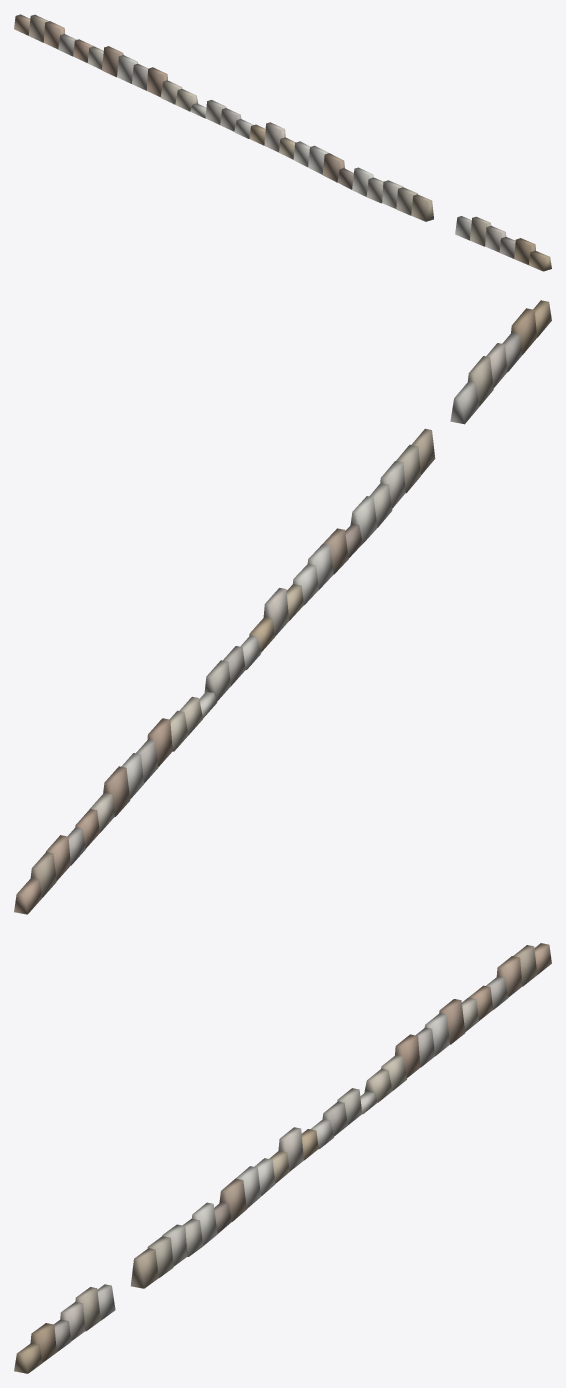
File: farm_0_-4_collision.glb
3 views of the same model, one above another, from view 1: azimuth 30°, elevation 25°; view 2: azimuth 150°, elevation 25°; view 3: azimuth 330°, elevation 25° (orthographic). The views are drawn at different scales.
Visible parts, largest first — view 1: geometry_0; view 2: geometry_0; view 3: geometry_0.
Part boxes in pixels (box(x1,y1,x2,y2)): geometry_0: box(14, 14, 551, 271); geometry_0: box(14, 300, 551, 914); geometry_0: box(14, 943, 551, 1373).
Bounding box in the file's own units: 6.78 × 5.59 × 56.42.
